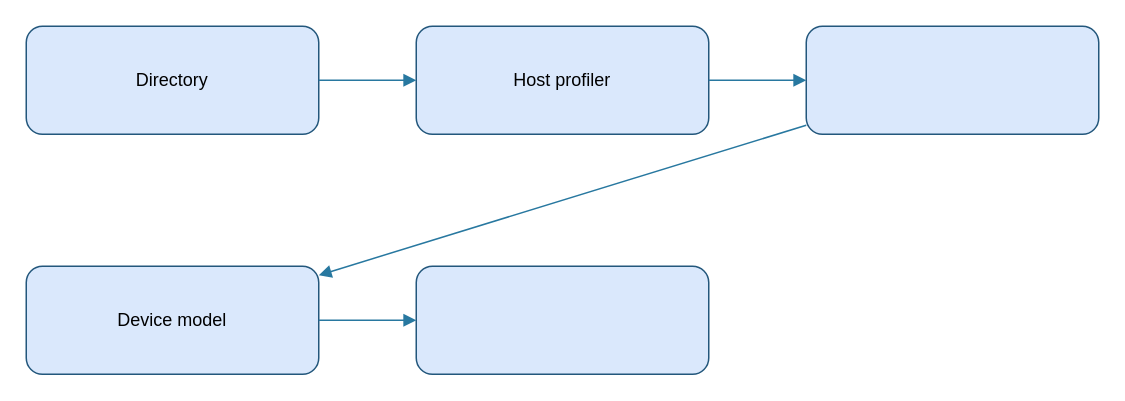
This 1125x401 diagram has some shape labels left out. Each missing label, with the centre of its shape:
"Enforcement" goes at point 562,319.
"Role rank" goes at point 952,79.
